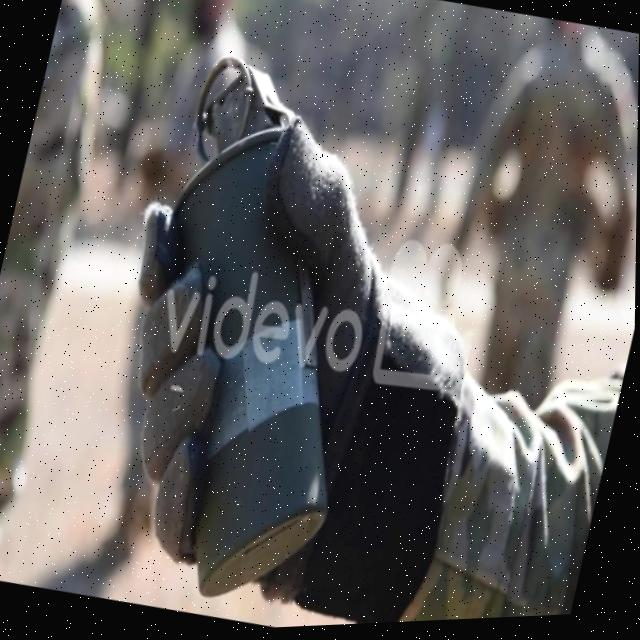grenade: (73, 33, 429, 630)
